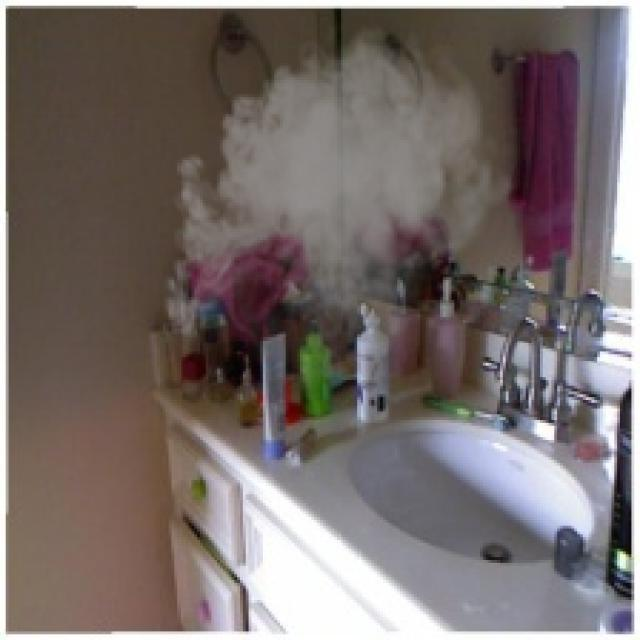Smoke: (154, 14, 517, 403)
